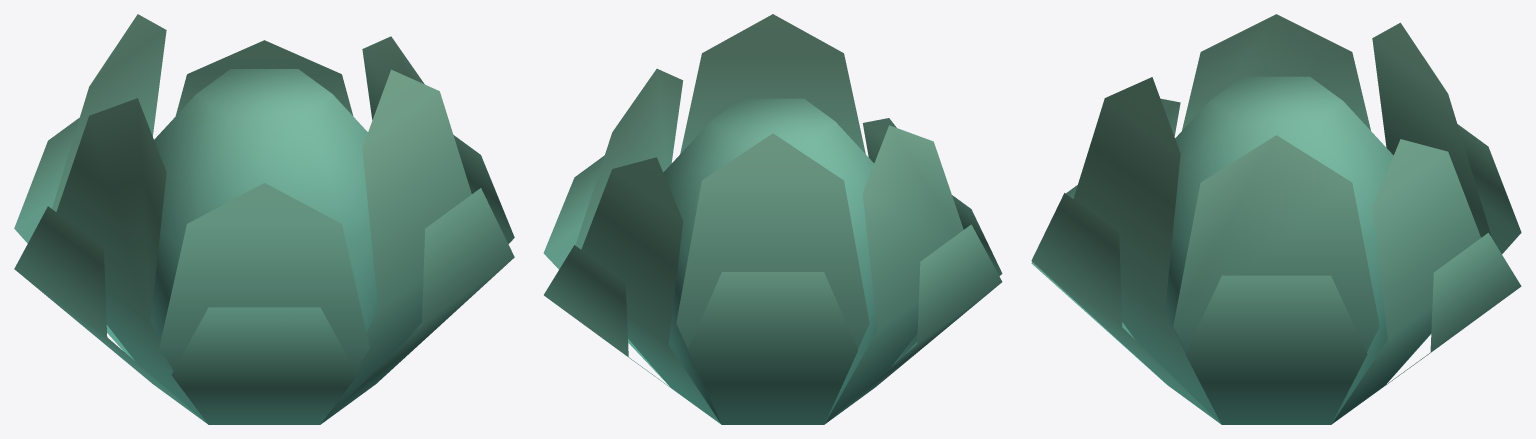
The model's file is cabbage.glb.
The picture shows the model from 3 angles, left to right: view 1: azimuth 30°, elevation 25°; view 2: azimuth 150°, elevation 25°; view 3: azimuth 270°, elevation 25°; orthographic projection. The views are drawn at different scales.
Parts seen in each view (by area): view 1: cabbage; view 2: cabbage; view 3: cabbage.
Boxes of the visible parts, bbox=[...] form: cabbage: bbox=[14, 14, 514, 424]; cabbage: bbox=[543, 14, 1002, 424]; cabbage: bbox=[1031, 14, 1521, 424].
Bounding box in the file's own units: 0.3795 × 0.3074 × 0.4036.
